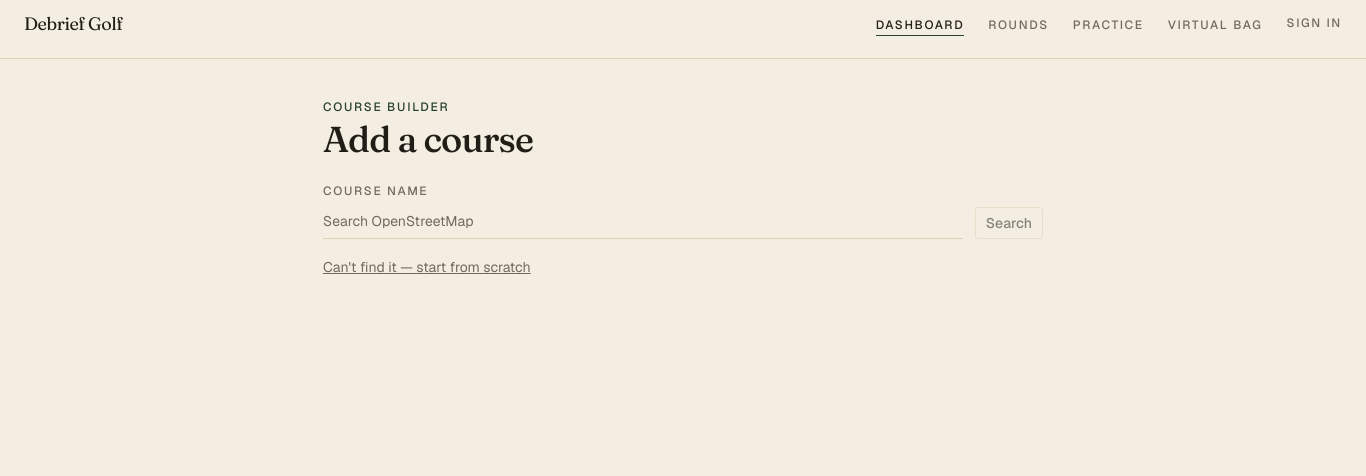
Test: NewCoursePage › starts a blank course and lets the user add holes
This screenshot has width=1366, height=476.
Click the button "Can't find it — start from scratch": click(427, 267) [323,257,531,277]
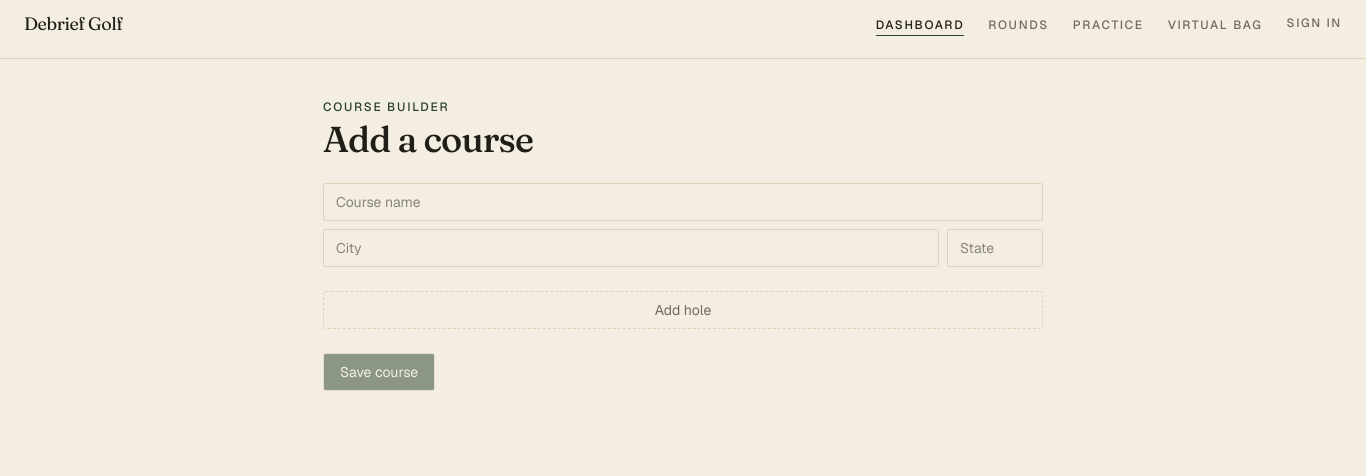
Expected: the field labelled "Course name" is shown, [323,183,1043,221]
Expected: the button "Save course" is disabled, [323,353,435,391]
Click the button "Add hole": click(683, 310) [323,291,1043,329]
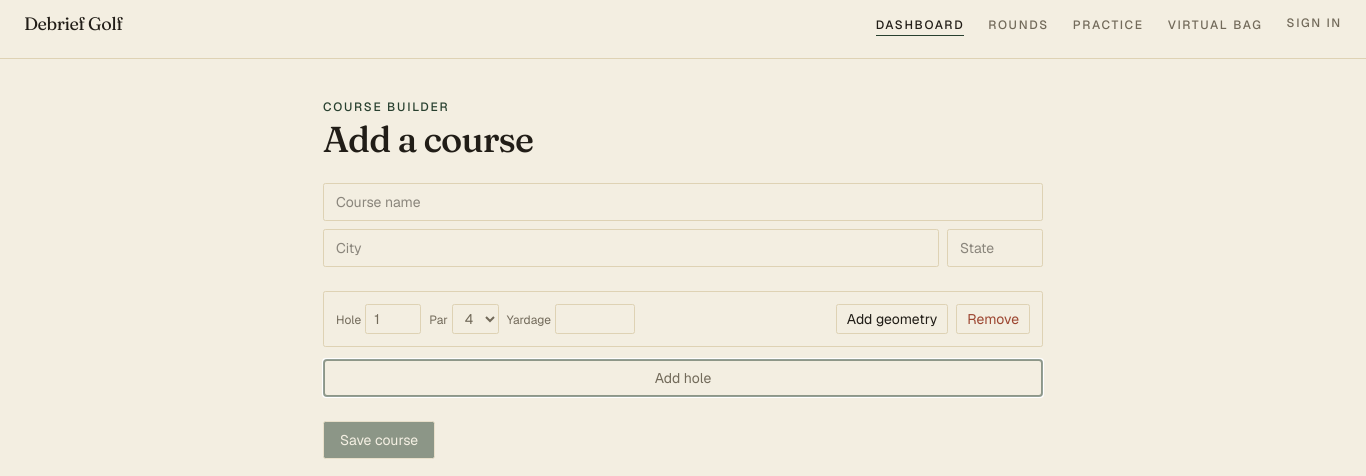
Expected: the text "Hole" is shown, [336,304,421,334]
